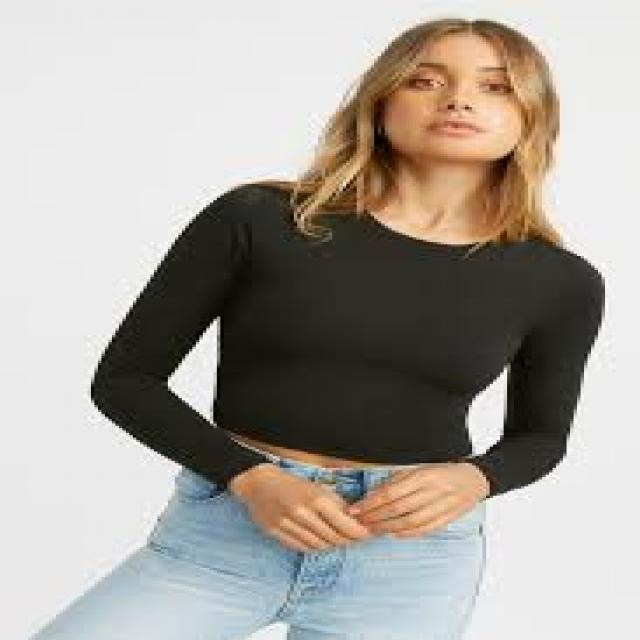plain: (69, 177, 610, 498)
